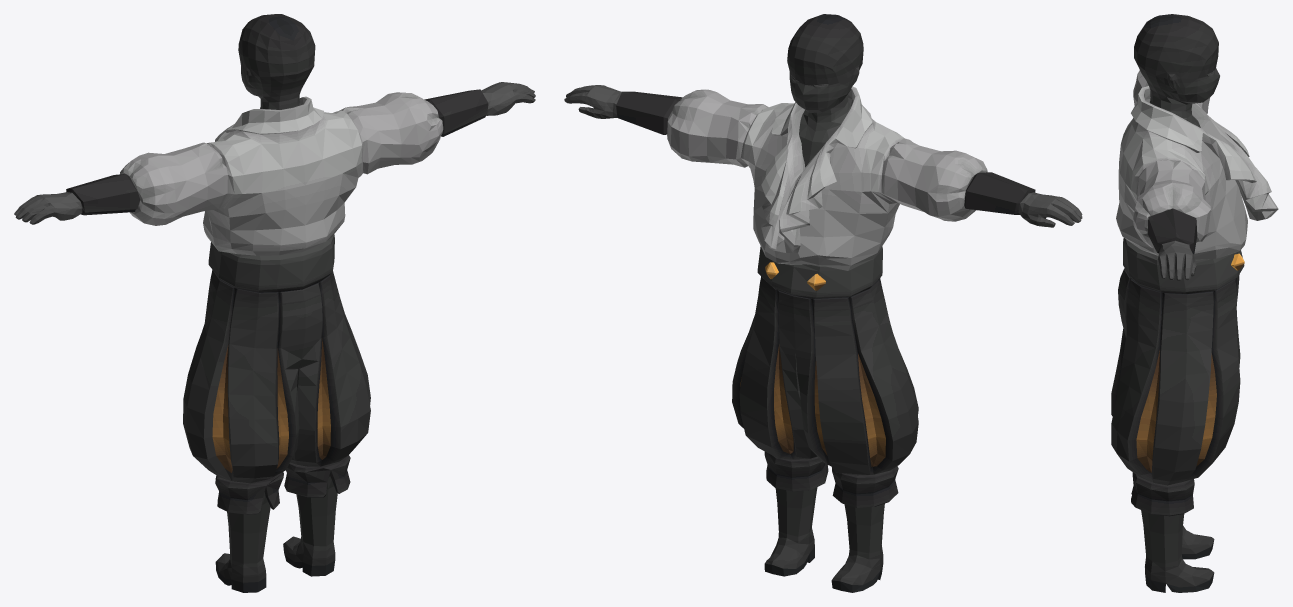
Rendered from NPC_AP30RuffledShirt.glb.
3 views of the same model, side by side, from view 1: azimuth 30°, elevation 25°; view 2: azimuth 150°, elevation 25°; view 3: azimuth 270°, elevation 25° (orthographic).
Parts seen in each view (by area): view 1: NPC_AP30RuffledShirt; view 2: NPC_AP30RuffledShirt; view 3: NPC_AP30RuffledShirt.
Boxes of the visible parts, <box> form: NPC_AP30RuffledShirt: <box>14,14,535,592</box>; NPC_AP30RuffledShirt: <box>564,14,1082,592</box>; NPC_AP30RuffledShirt: <box>1111,14,1278,592</box>.
Bounding box in the file's own units: 14.15 × 14.5 × 4.
1 material, 1 textured.
